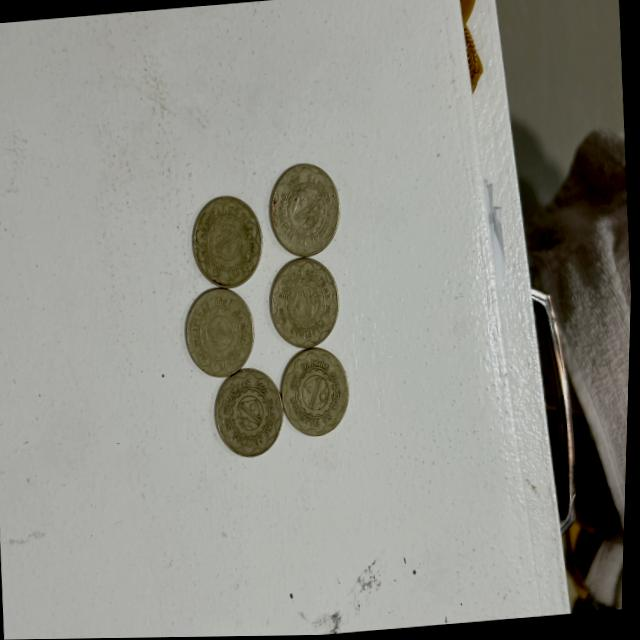5_Old_Back: (176, 189, 273, 296), (259, 256, 345, 357), (264, 158, 345, 264), (277, 345, 359, 444), (206, 363, 286, 460), (181, 289, 261, 386)
